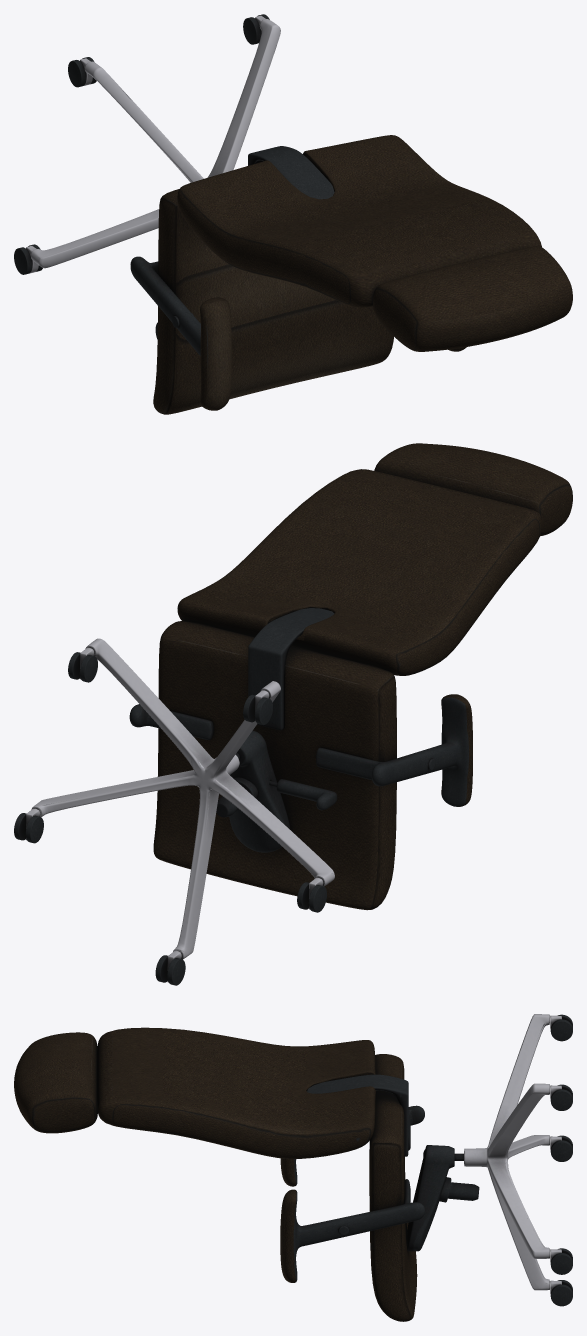
The model's file is scaun4.glb.
The picture shows the model from 3 angles, top to bottom: view 1: azimuth 30°, elevation 25°; view 2: azimuth 150°, elevation 25°; view 3: azimuth 270°, elevation 25°; orthographic projection. The views are drawn at different scales.
Parts seen in each view (by area): view 1: Node1; view 2: Node1; view 3: Node1.
Boxes of the visible parts, x1,y1,x2,y2 form: Node1: (14,14,572,414); Node1: (14,443,572,985); Node1: (14,1014,572,1321).
Size of the model in its own units: 64.4 by 63.43 by 127.
Materials: 1 (1 with a texture image).
